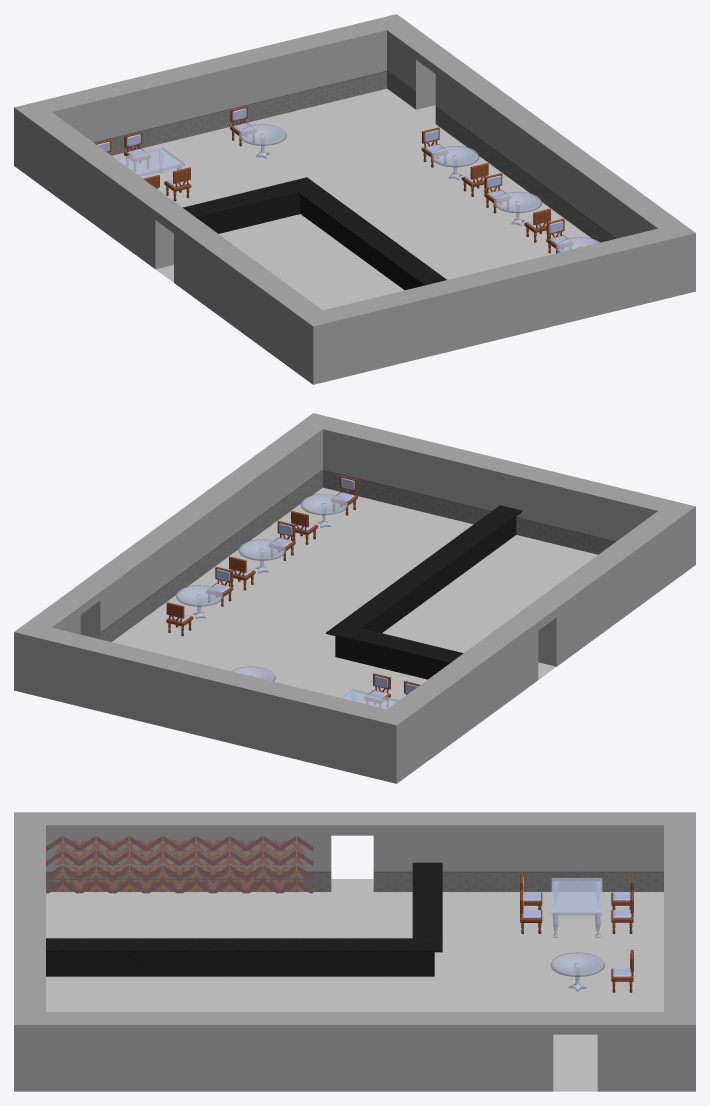
The model's file is cafeteria.fbx.
The picture shows the model from 3 angles, top to bottom: view 1: azimuth 30°, elevation 25°; view 2: azimuth 150°, elevation 25°; view 3: azimuth 270°, elevation 25°; orthographic projection. The views are drawn at different scales.
Parts seen in each view (by area): view 1: Plane, Cube, parede front, Cube.001, parede right, Plane.002, Cube.011, Cube.010, Cube.004, Circle, Circle.003, Circle.002; view 2: Plane, Cube.001, Cube, parede front, parede right, Plane.002, Cube.011, Cube.010, Circle.003, Circle.002, Circle.004, Cube.004; view 3: Plane, parede right, Cube, Cube.011, Plane.002, Cube.001, parede front, Plane.004, Plane.005, Cube.004, Circle.
Boxes of the visible parts, x1,y1,x2,y2 form: Plane: (112, 88, 596, 310); Cube: (14, 107, 336, 384); parede front: (323, 228, 672, 378); Cube.001: (14, 14, 410, 155); parede right: (387, 24, 695, 297); Plane.002: (183, 177, 446, 285); Cube.011: (300, 195, 423, 290); Cube.010: (197, 193, 300, 233); Cube.004: (115, 147, 184, 176); Circle: (239, 124, 286, 158); Circle.003: (431, 146, 479, 179); Circle.002: (494, 191, 541, 225); Plane: (112, 487, 597, 708); Cube.001: (14, 622, 410, 783); Cube: (387, 500, 695, 783); parede front: (323, 419, 671, 554); parede right: (28, 413, 336, 641); Plane.002: (326, 505, 522, 663); Cube.011: (363, 516, 516, 632); Cube.010: (335, 636, 448, 679); Circle.003: (175, 585, 223, 619); Circle.002: (238, 539, 285, 573); Circle.004: (300, 493, 348, 527); Cube.004: (340, 688, 399, 709); Plane: (46, 879, 663, 1091); parede right: (14, 1012, 695, 1091); Cube: (14, 812, 663, 891); Cube.011: (46, 952, 420, 976); Plane.002: (46, 862, 442, 952); Cube.001: (664, 812, 695, 1091); parede front: (14, 825, 45, 1011); Plane.004: (54, 840, 304, 891); Plane.005: (46, 836, 313, 893); Cube.004: (551, 878, 602, 937); Circle: (550, 952, 604, 991).
Size of the model in its own units: 2448 by 368 by 3315.
